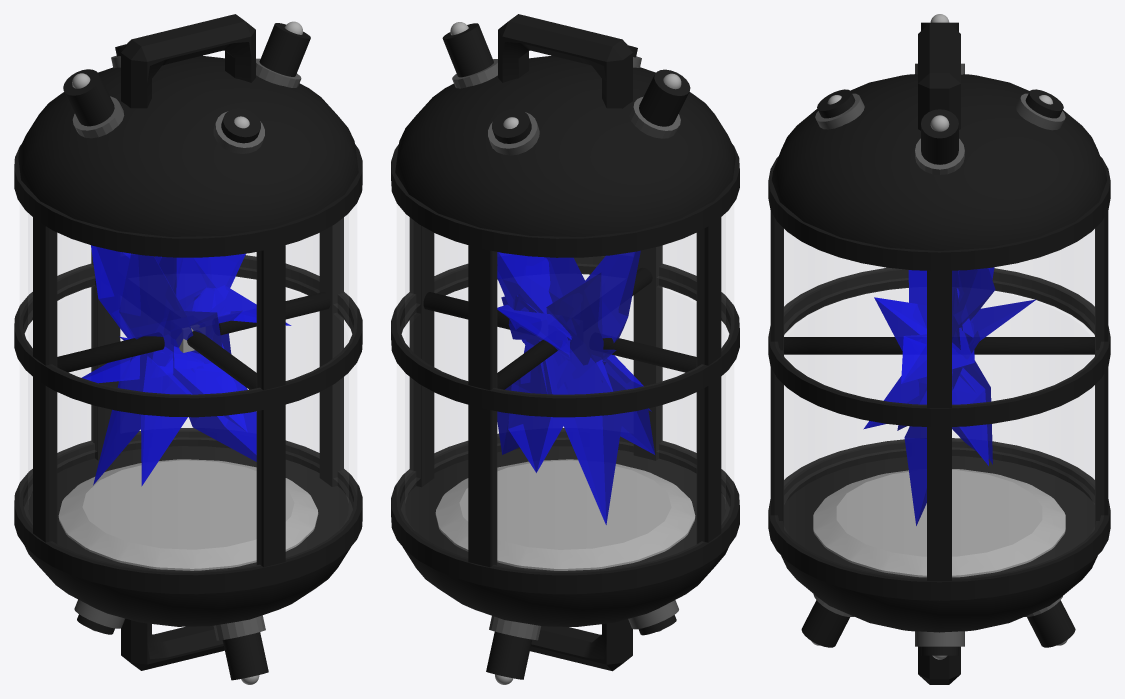
Rendered from Crystal3.fbx.
3 renders of one model, left to right at view 1: azimuth 30°, elevation 25°; view 2: azimuth 150°, elevation 25°; view 3: azimuth 270°, elevation 25°, orthographic. The views are drawn at different scales.
Parts seen in each view (by area): view 1: pCube54; view 2: pCube54; view 3: pCube54.
Boxes of the visible parts, <box> form: pCube54: <box>14,14,362,684</box>; pCube54: <box>391,14,739,684</box>; pCube54: <box>768,14,1110,684</box>.
Size of the model in its own units: 13.71 by 27.06 by 13.71.
